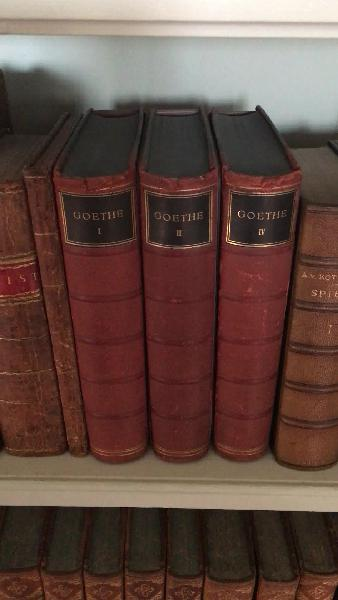Aa6-10: (15, 163, 96, 457)
Aa6-11_13: (51, 174, 290, 461)
Aa6-9: (1, 178, 56, 460)
